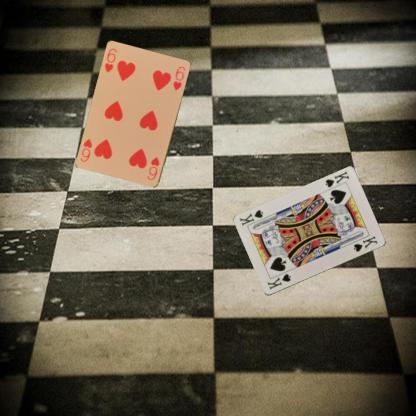6h: (145, 154, 161, 182), (102, 46, 118, 74)
Ks: (265, 271, 292, 291), (323, 169, 350, 189)
